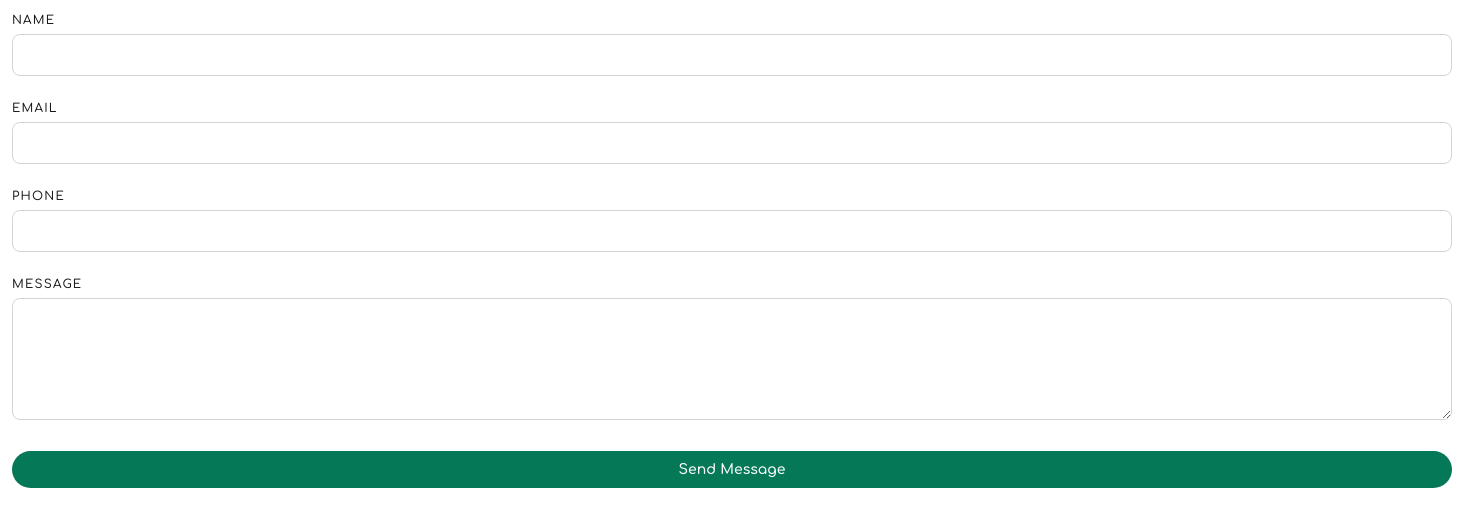
Test: ContactForm › shows success state after submit
This screenshot has width=1464, height=505.
Type "Test" into the field labelled "Name" at (732, 55), box [12,34,1452,76]
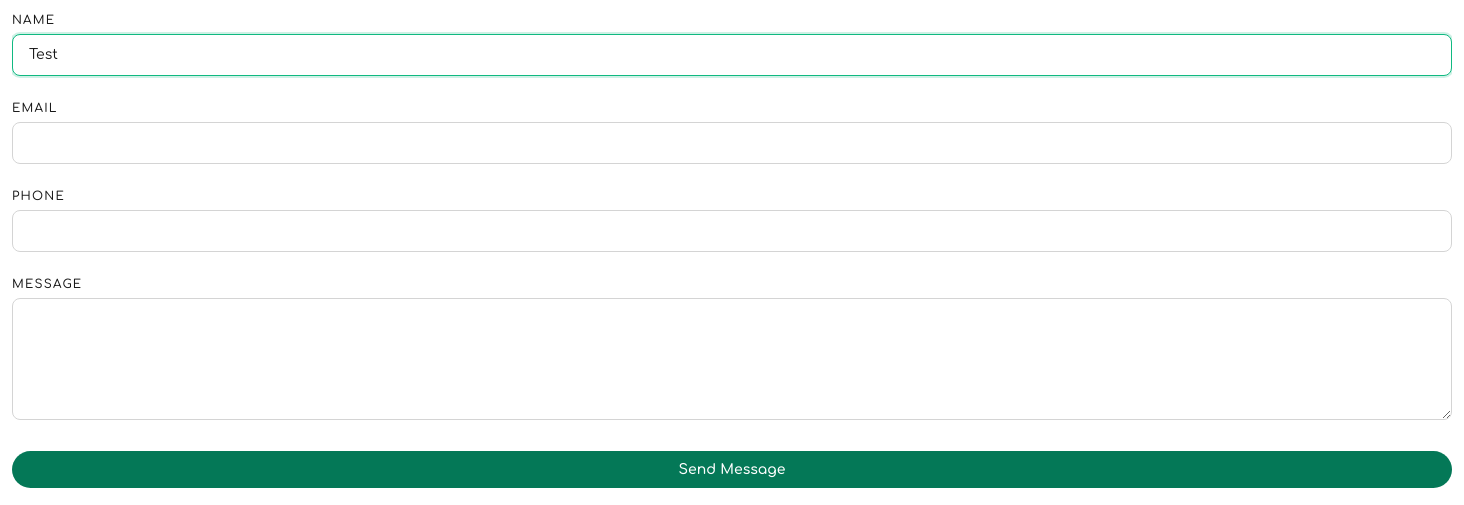
Type "test@test.com" into the field labelled "Email" at (732, 143), box [12,122,1452,164]
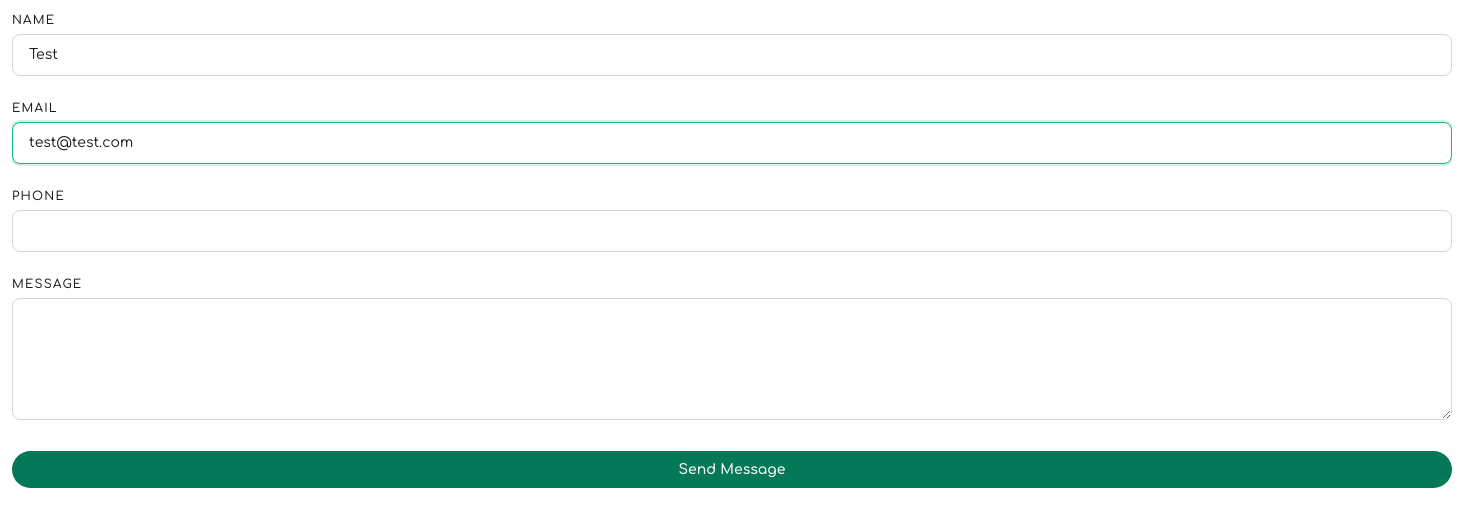
Type "9876543210" into the field labelled "Phone" at (732, 231), box [12,210,1452,252]
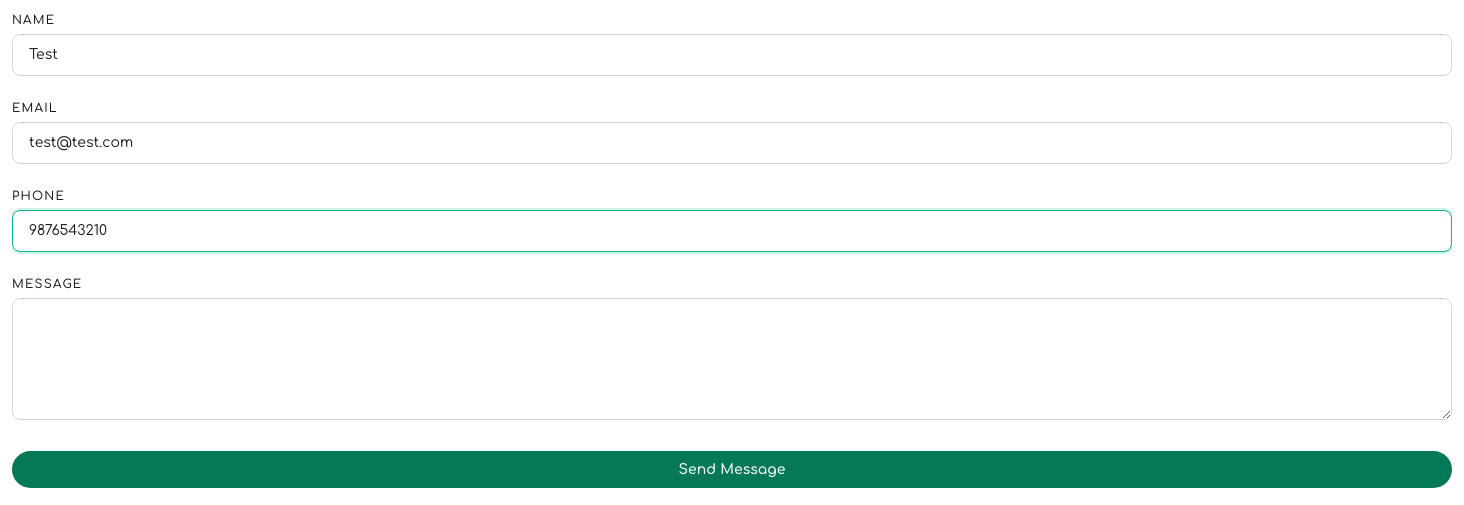
Type "Hello" into the text box labelled "Message" at (732, 359), box [12,298,1452,420]
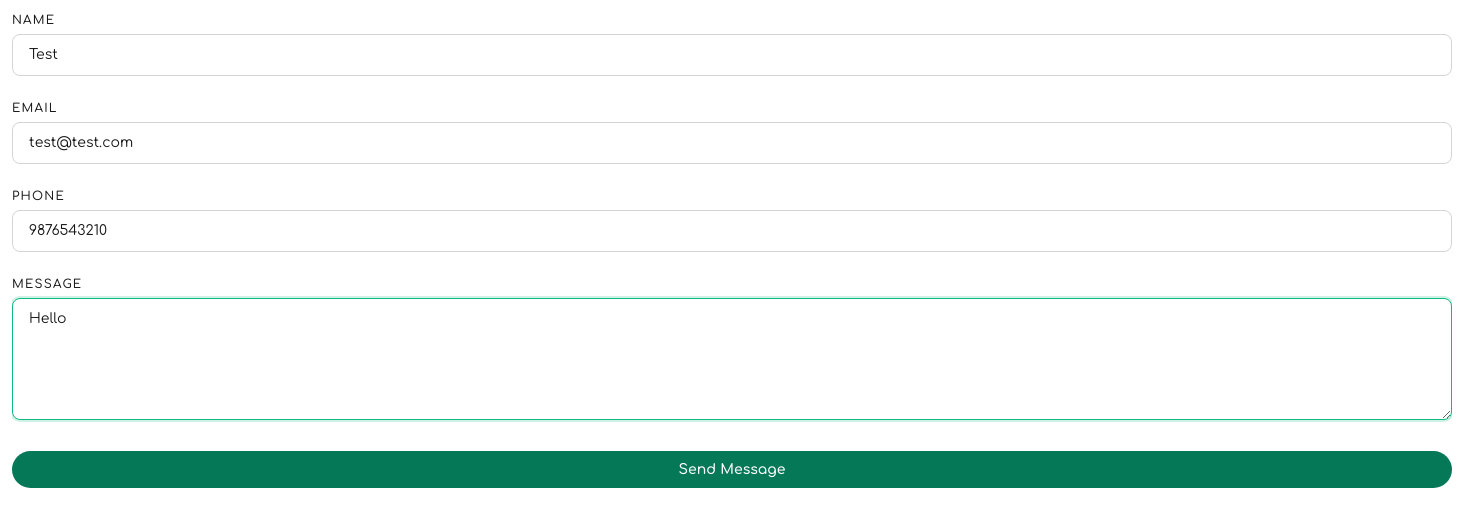
Click the button "Send Message" at (732, 470), box [12,451,1452,488]
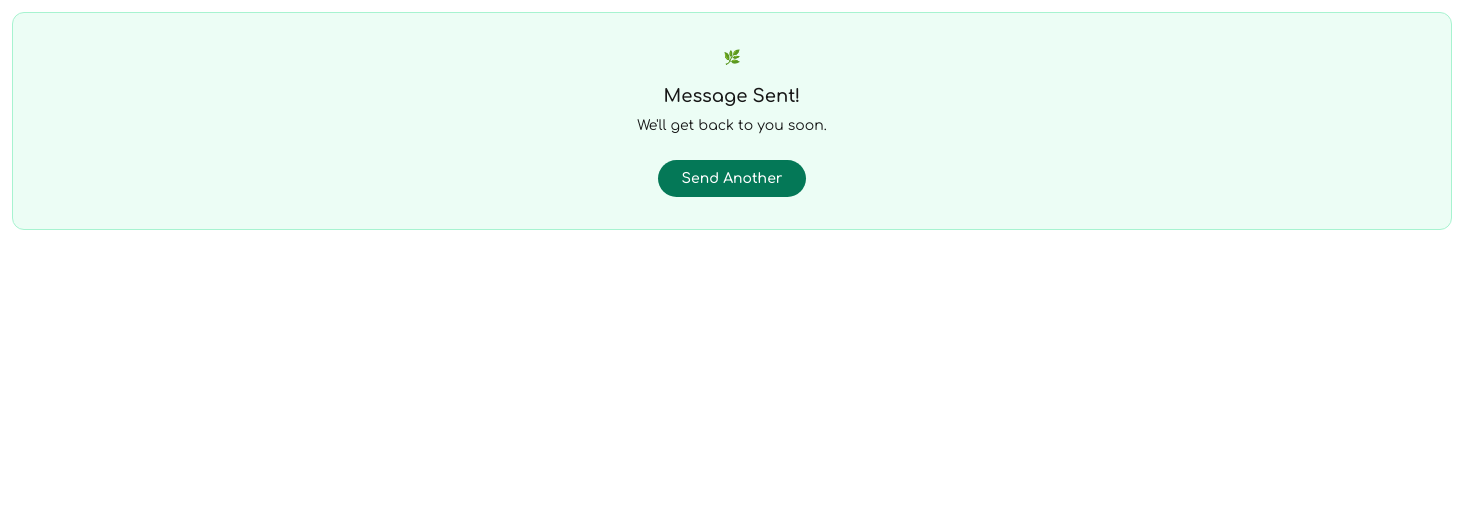
Check: the heading "Message Sent!" is shown, box [664,86,800,106]
